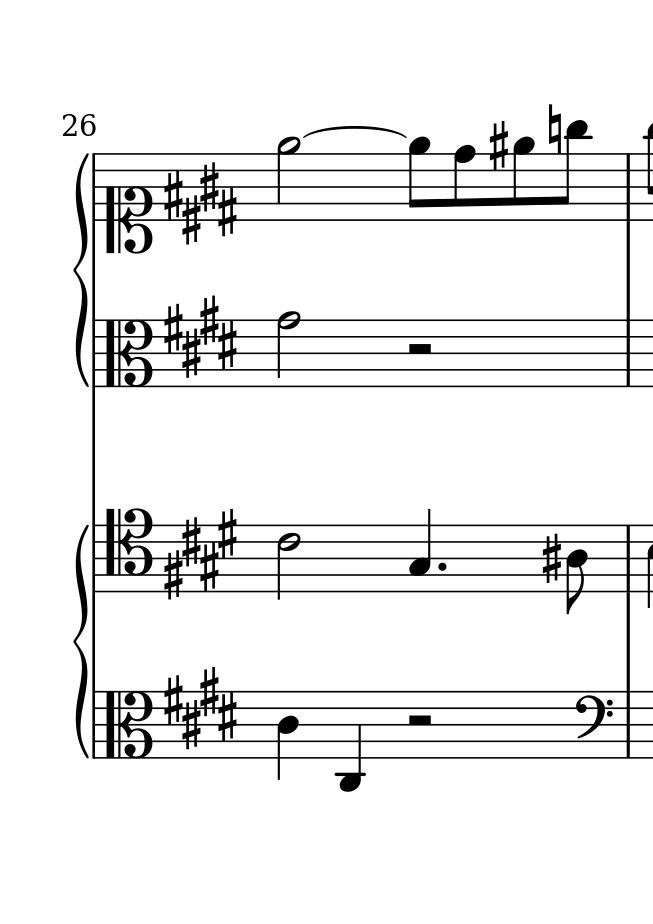2: (57, 111, 78, 139)
2_6: (275, 523, 301, 600)
2_8: (276, 309, 303, 389)
2_9: (275, 135, 303, 222)
4_-3: (336, 688, 366, 791)
4_3: (407, 506, 434, 595)
4_6: (275, 688, 303, 783)
6: (78, 111, 98, 140)
8_11: (558, 119, 591, 223)
8_4: (565, 522, 588, 615)
8_8: (452, 144, 479, 223)
8_9: (510, 137, 536, 223), (407, 135, 431, 223)
Brace: (68, 523, 90, 759), (72, 150, 89, 389)
Cclef: (101, 317, 158, 387), (103, 689, 156, 762)
E_S: (159, 508, 238, 602), (163, 153, 241, 244), (163, 666, 238, 754), (164, 294, 239, 380)
Fclef: (573, 687, 613, 761)
Natural: (543, 104, 562, 156)
Rests2: (403, 340, 439, 359), (402, 712, 440, 729)
Sharp: (486, 118, 508, 173), (541, 532, 562, 589)
Single_barline: (619, 151, 637, 223), (620, 526, 638, 595), (89, 319, 104, 395), (620, 318, 636, 387), (88, 523, 103, 595), (620, 691, 636, 758), (88, 153, 103, 223), (88, 691, 102, 759)
Slur: (303, 124, 410, 138)
Soprano_Cclef: (103, 153, 158, 254)
Tensor_Cclef: (105, 505, 157, 594)
dot: (436, 558, 447, 576)
